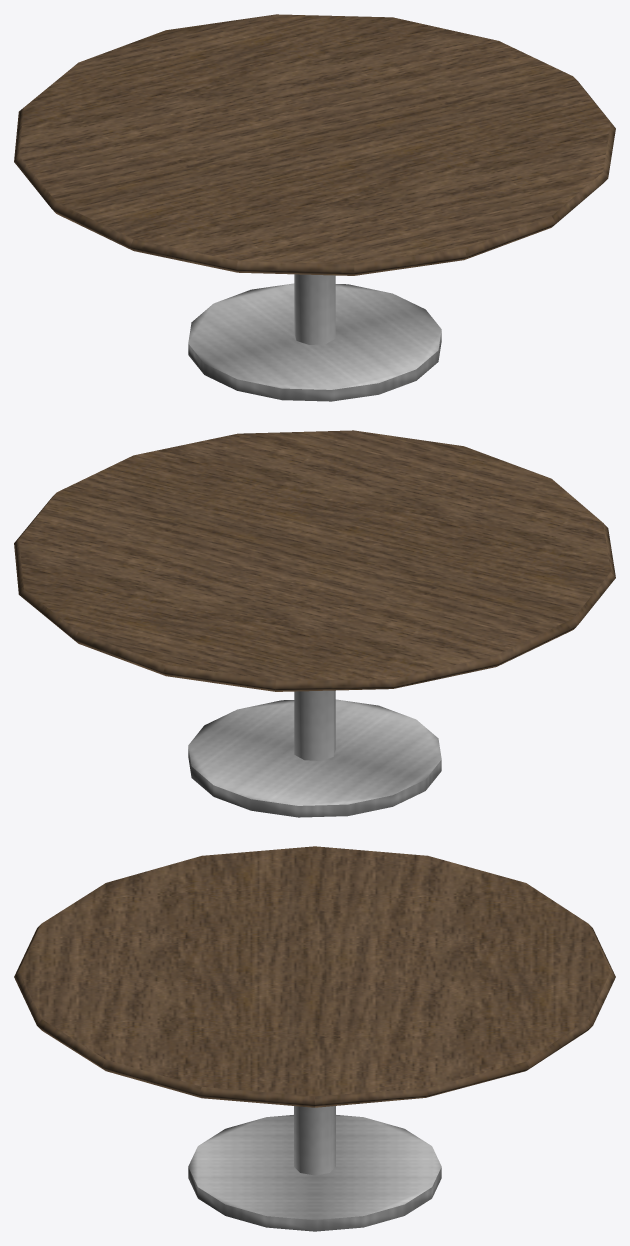
The model's file is Table1.obj.
3 views of the same model, one above another, from view 1: azimuth 30°, elevation 25°; view 2: azimuth 150°, elevation 25°; view 3: azimuth 270°, elevation 25° (orthographic).
Visible parts, largest first — view 1: SELECT.001; view 2: SELECT.001; view 3: SELECT.001.
Part boxes in pixels (x1,y1,x2,y2): SELECT.001: [14, 14, 615, 401]; SELECT.001: [14, 430, 615, 817]; SELECT.001: [14, 846, 615, 1231].
Bounding box in the file's own units: 114 × 43.2 × 114.
